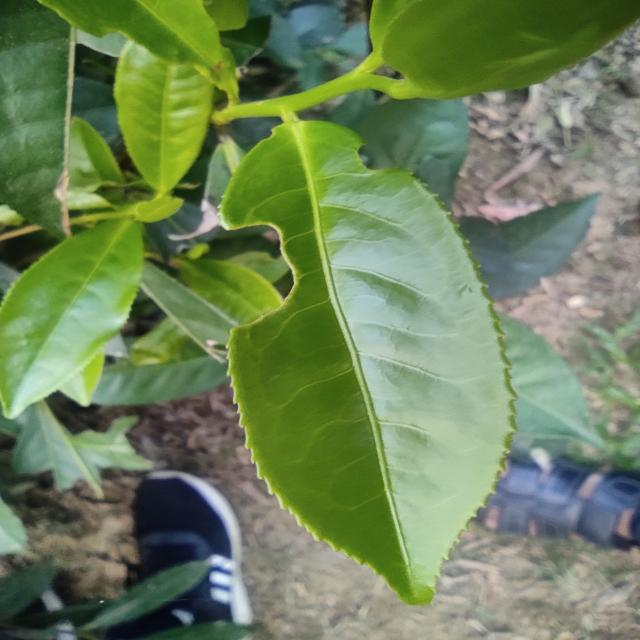Category C 4-7 days: (180, 94, 539, 626)
